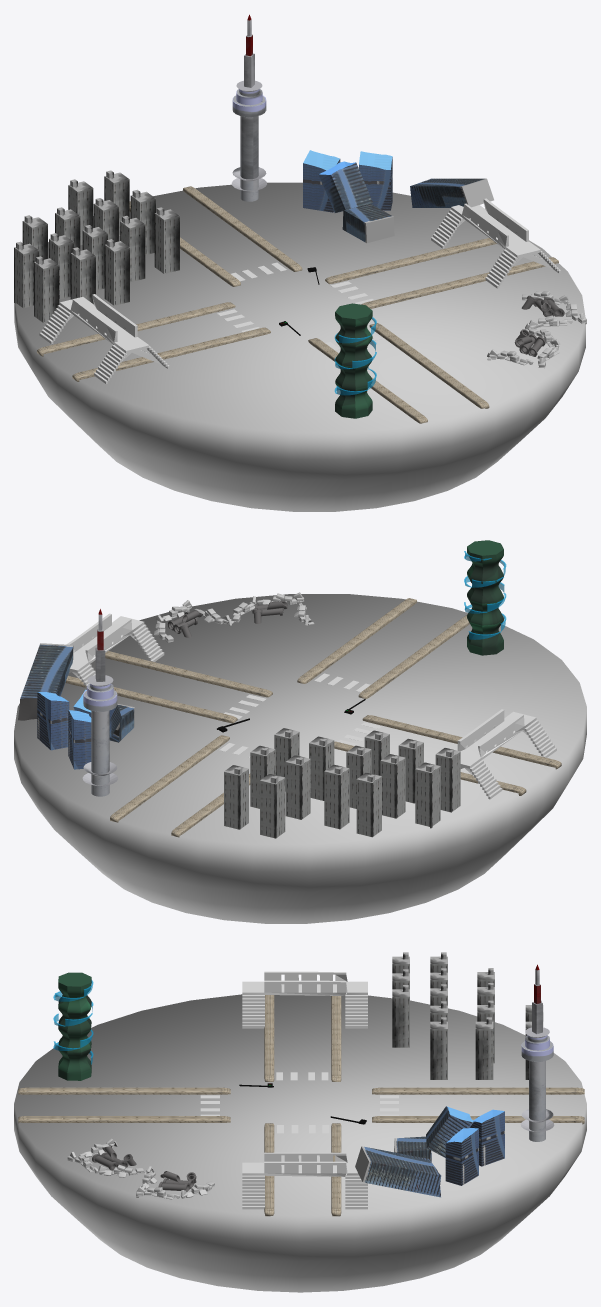
Rendered from map_f.FBX.
3 views of the same model, one above another, from view 1: azimuth 30°, elevation 25°; view 2: azimuth 150°, elevation 25°; view 3: azimuth 270°, elevation 25° (orthographic). The views are drawn at different scales.
Visible parts, largest first — view 1: Cylinder002, StraightStair003, StraightStair002, Hose001, Cylinder005, Plane037, Plane039, Object011, Object004, Object019, Plane040, Object009 (+21 smaller); view 2: Cylinder002, Hose001, StraightStair003, Cylinder005, StraightStair002, Plane037, Object019, Object008, Object017, Object015, Object016, Object014 (+19 smaller); view 3: Cylinder002, StraightStair003, StraightStair002, Hose001, Cylinder005, Plane037, Object019, ChamferBox117, ChamferBox107, ChamferBox118, Object018, Plane039 (+10 smaller).
Boxes of the visible parts, x1,y1,x2,y2 form: Cylinder002: (14,182,585,511); StraightStair003: (39,294,169,383); StraightStair002: (431,198,560,288); Hose001: (335,303,372,418); Cylinder005: (231,14,266,201); Plane037: (410,178,493,207); Plane039: (318,161,372,212); Object011: (104,239,129,305); Object004: (154,207,179,273); Object019: (359,151,392,210); Plane040: (342,204,394,242); Object009: (34,256,59,322); Cylinder002: (14,594,586,923); Hose001: (467,540,503,655); StraightStair003: (457,709,556,799); Cylinder005: (82,609,117,796); StraightStair002: (66,613,164,687); Plane037: (18,643,73,720); Object019: (37,692,69,750); Object008: (415,762,440,828); Object017: (356,772,381,837); Object015: (285,755,310,819); Object016: (324,764,349,829); Object014: (260,773,285,838); Cylinder002: (14,994,586,1292); StraightStair003: (242,971,367,1028); StraightStair002: (242,1152,367,1209); Hose001: (58,972,91,1080); Cylinder005: (520,964,554,1141); Plane037: (355,1146,441,1197); Object019: (445,1128,478,1185); ChamferBox117: (18,1087,230,1094); ChamferBox107: (372,1087,584,1094); ChamferBox118: (18,1116,230,1123); Object018: (470,1109,504,1166); Plane039: (426,1106,473,1157).
Size of the model in its own units: 12710 by 7348 by 13729.
